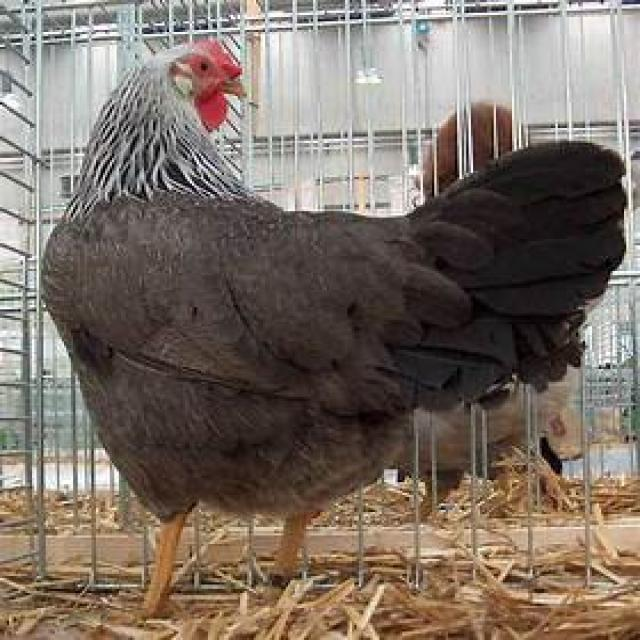hen: (39, 41, 626, 623)
